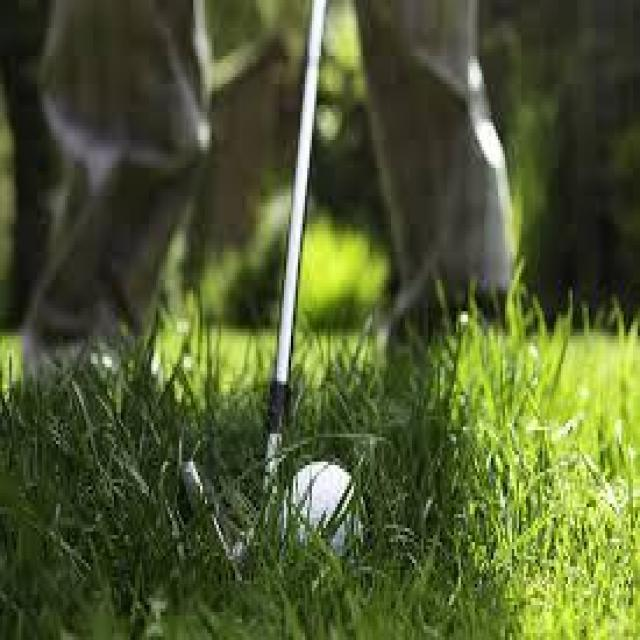golfball: (268, 451, 372, 560)
